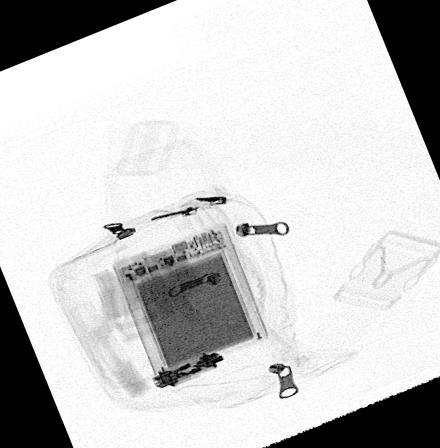Powerbank: (110, 221, 269, 378)
